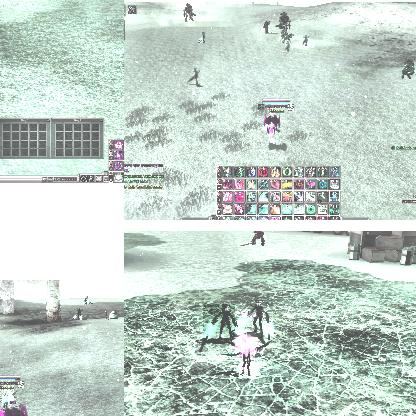caliana: (203, 304, 235, 346), (247, 300, 272, 338), (187, 68, 199, 84), (71, 307, 83, 321), (196, 31, 206, 43), (301, 35, 308, 46), (84, 296, 92, 304), (284, 42, 290, 52)
